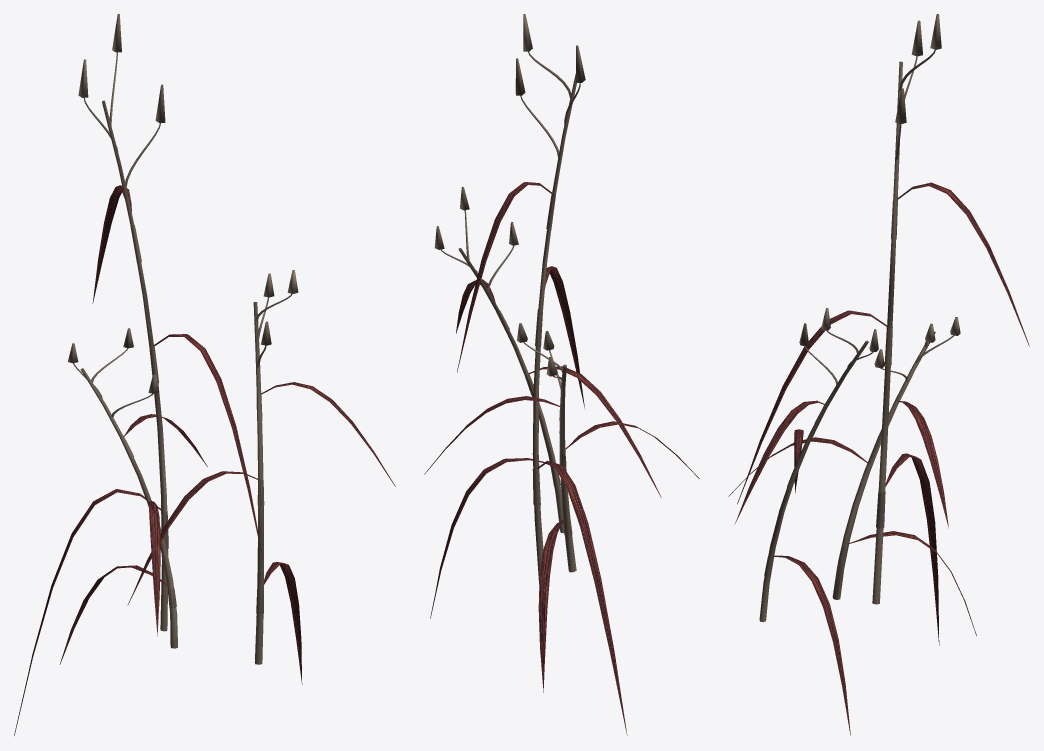
File: dryshoots_04.glb
3 renders of one model, left to right at view 1: azimuth 30°, elevation 25°; view 2: azimuth 150°, elevation 25°; view 3: azimuth 270°, elevation 25°, orthographic. The views are drawn at different scales.
Visible parts, largest first — view 1: export; view 2: export; view 3: export.
Boxes of the visible parts, box(x1,y1,x2,y2) form: export: box(14, 14, 395, 735); export: box(424, 14, 699, 735); export: box(728, 14, 1029, 735).
Size of the model in its own units: 0.671 by 1.62 by 0.6476.
2 materials, 2 textured.
